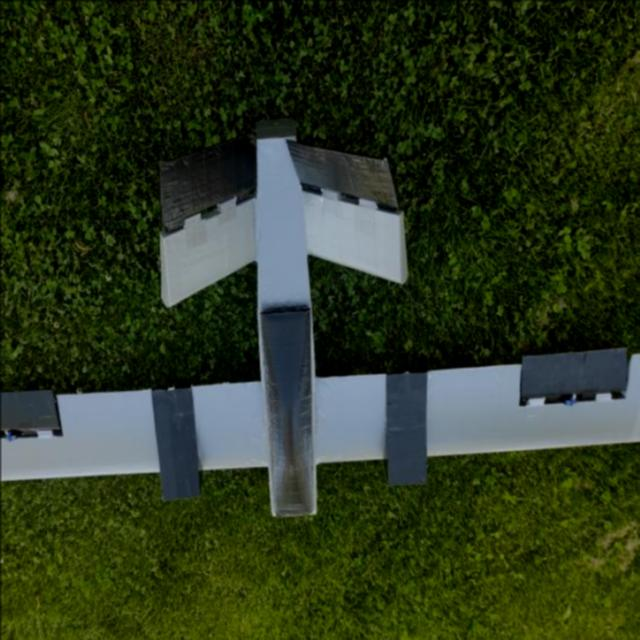plane: (0, 115, 640, 518)
